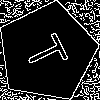T: (22, 27, 78, 76)
